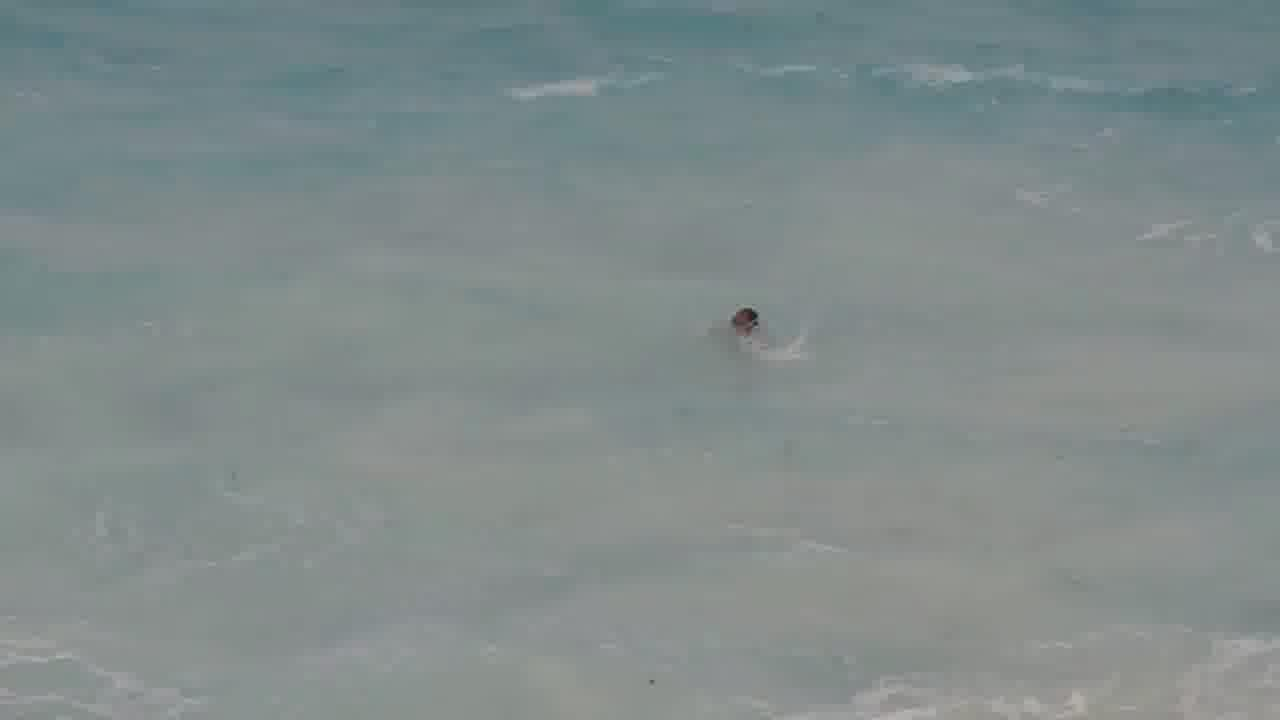human: (721, 296, 772, 353)
